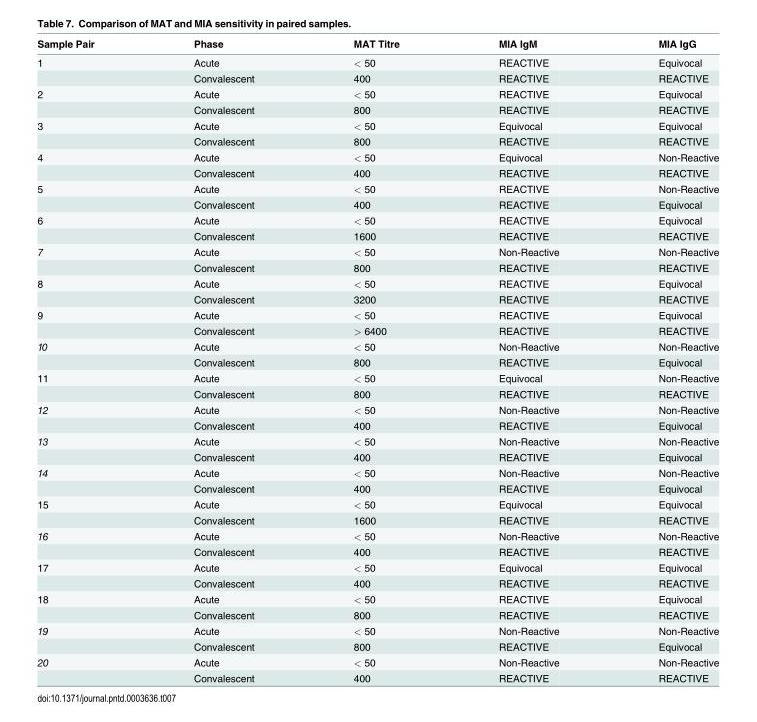table: (36, 37, 718, 683)
table column: (143, 37, 303, 683), (448, 37, 608, 683), (303, 37, 448, 683), (608, 37, 718, 683), (36, 37, 143, 683)
table column header: (36, 37, 718, 52)
table row: (36, 52, 718, 70), (36, 85, 718, 101), (36, 101, 718, 117), (36, 117, 718, 133), (36, 148, 718, 164), (36, 164, 718, 180), (36, 180, 718, 196), (36, 196, 718, 212), (36, 227, 718, 243), (36, 243, 718, 259), (36, 259, 718, 275), (36, 275, 718, 291), (36, 306, 718, 322), (36, 322, 718, 338), (36, 338, 718, 354), (36, 369, 718, 385), (36, 385, 718, 401), (36, 401, 718, 417), (36, 432, 718, 448), (36, 448, 718, 464), (36, 464, 718, 480), (36, 480, 718, 496), (36, 496, 718, 512), (36, 527, 718, 543), (36, 543, 718, 559), (36, 559, 718, 575), (36, 590, 718, 606), (36, 606, 718, 622), (36, 622, 718, 638), (36, 653, 718, 669), (36, 37, 718, 52), (36, 70, 718, 85), (36, 133, 718, 148), (36, 212, 718, 227), (36, 291, 718, 306), (36, 354, 718, 369), (36, 417, 718, 432), (36, 512, 718, 527), (36, 575, 718, 590), (36, 638, 718, 653), (36, 669, 718, 683)
table spanning cell: (36, 52, 143, 85), (36, 85, 143, 117), (36, 148, 143, 180), (36, 180, 143, 212), (36, 243, 143, 275), (36, 306, 143, 338), (36, 369, 143, 401), (36, 432, 143, 464), (36, 464, 143, 496), (36, 527, 143, 559), (36, 590, 143, 622), (36, 117, 143, 148), (36, 212, 143, 243), (36, 275, 143, 306), (36, 338, 143, 369), (36, 401, 143, 432), (36, 496, 143, 527), (36, 559, 143, 590), (36, 622, 143, 653), (36, 653, 143, 683)
